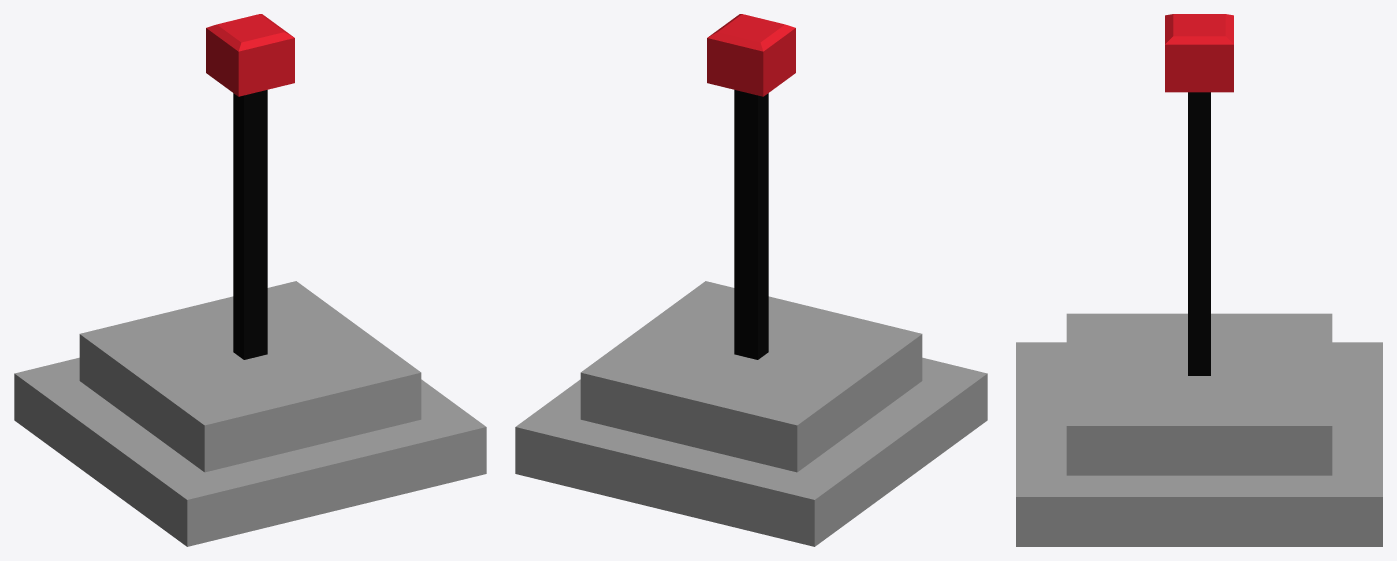
File: Lever.fbx
3 renders of one model, left to right at view 1: azimuth 30°, elevation 25°; view 2: azimuth 150°, elevation 25°; view 3: azimuth 270°, elevation 25°, orthographic. The views are drawn at different scales.
Parts seen in each view (by area): view 1: Plane, Cube; view 2: Plane, Cube; view 3: Plane, Cube.
Part boxes in pixels (x1,y1,x2,y2): Plane: (14,281,486,546); Cube: (206,14,294,359); Plane: (515,281,987,546); Cube: (707,14,795,359); Plane: (1016,313,1382,546); Cube: (1165,14,1233,375).
Bounding box in the file's own units: 200 × 267 × 200.
